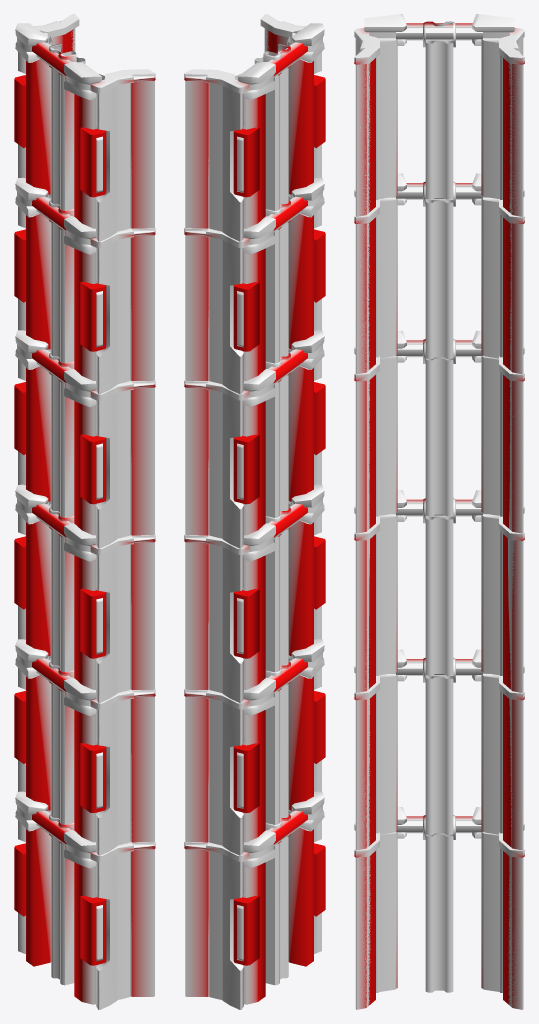
Rendered from MIDMK4.FBX.
3 views of the same model, side by side, from view 1: azimuth 30°, elevation 25°; view 2: azimuth 150°, elevation 25°; view 3: azimuth 270°, elevation 25° (orthographic). The views are drawn at different scales.
Parts seen in each view (by area): view 1: ConveyorLiftMid_Mk4_static_LOD0; view 2: ConveyorLiftMid_Mk4_static_LOD0; view 3: ConveyorLiftMid_Mk4_static_LOD0.
Part boxes in pixels (x1,y1,x2,y2): ConveyorLiftMid_Mk4_static_LOD0: [14, 14, 155, 1009]; ConveyorLiftMid_Mk4_static_LOD0: [184, 14, 325, 1009]; ConveyorLiftMid_Mk4_static_LOD0: [354, 14, 524, 1009].
Bounding box in the file's own units: 95.79 × 1236 × 198.
